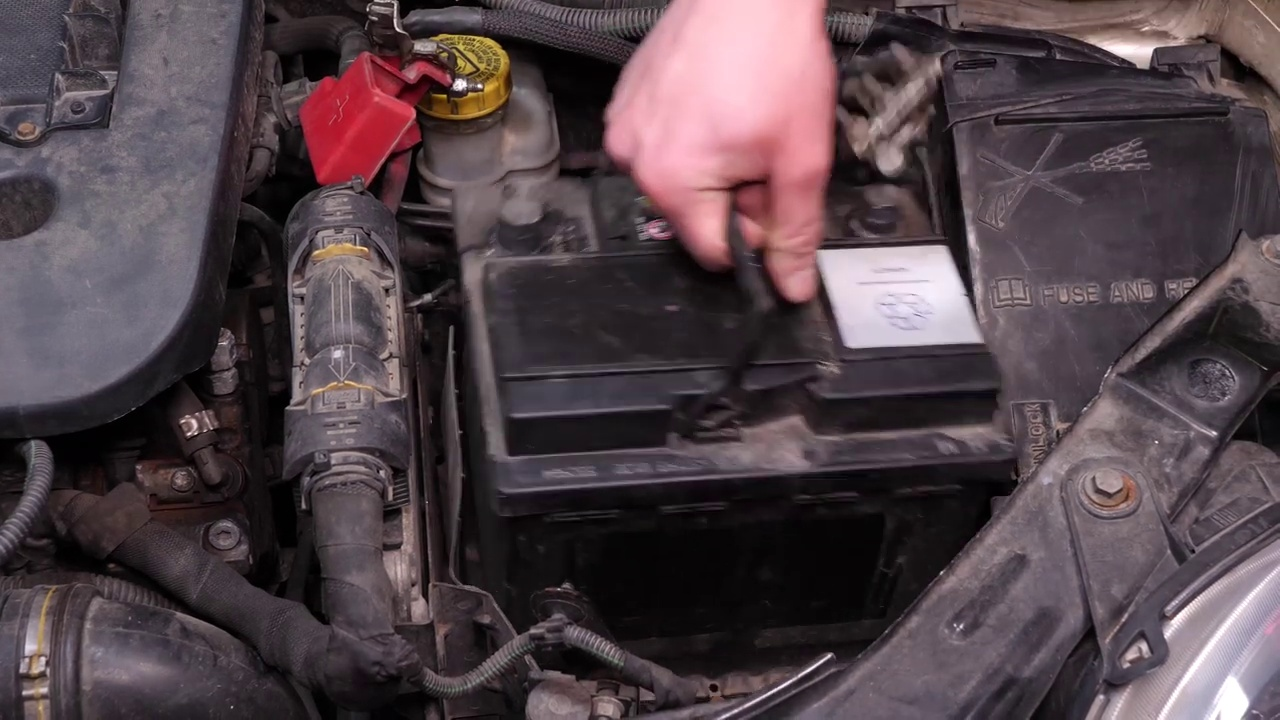battery: (460, 187, 997, 455)
